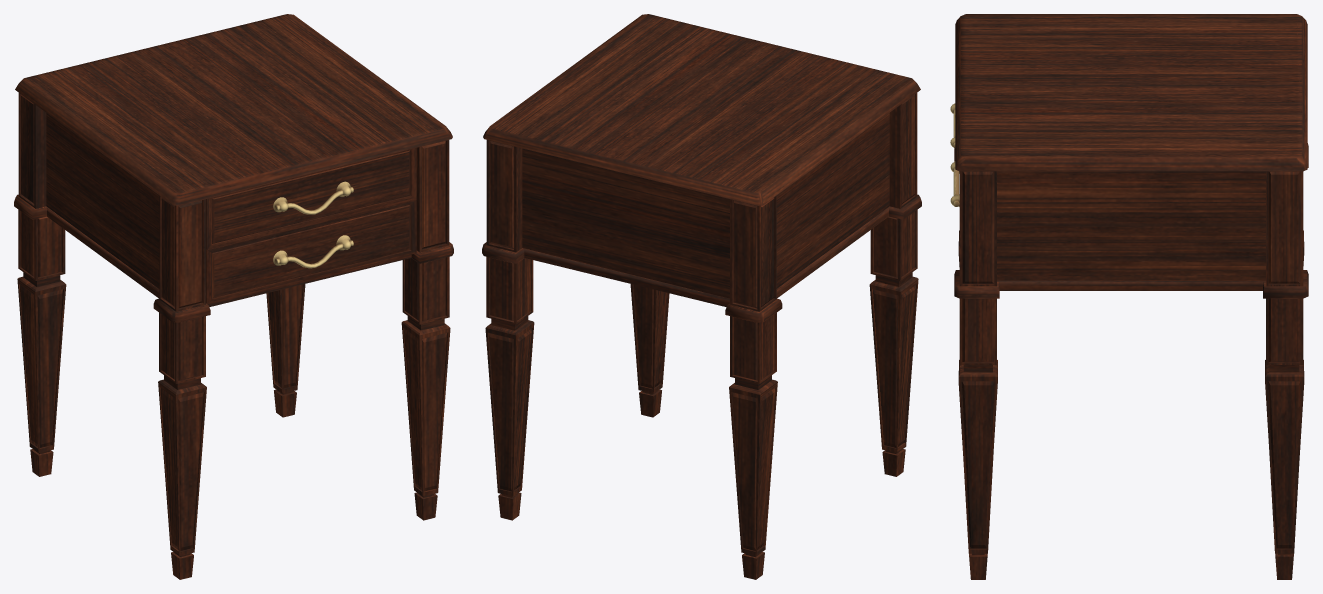
File: nightstand.glb
3 views of the same model, side by side, from view 1: azimuth 30°, elevation 25°; view 2: azimuth 150°, elevation 25°; view 3: azimuth 270°, elevation 25° (orthographic). The views are drawn at different scales.
Visible parts, largest first — view 1: Tumba_4, Case 1_3, Case 2_1, Handel 1_2, Handel 1.001_0; view 2: Tumba_4; view 3: Tumba_4.
Part boxes in pixels (<box>): Tumba_4: <box>14,14,453,579</box>; Case 1_3: <box>206,199,416,304</box>; Case 2_1: <box>206,148,416,249</box>; Handel 1_2: <box>273,235,353,268</box>; Handel 1.001_0: <box>273,181,353,214</box>; Tumba_4: <box>482,14,921,579</box>; Tumba_4: <box>954,14,1308,579</box>.
Size of the model in its own units: 0.573 by 0.7604 by 0.5794.
2 materials, 2 textured.
